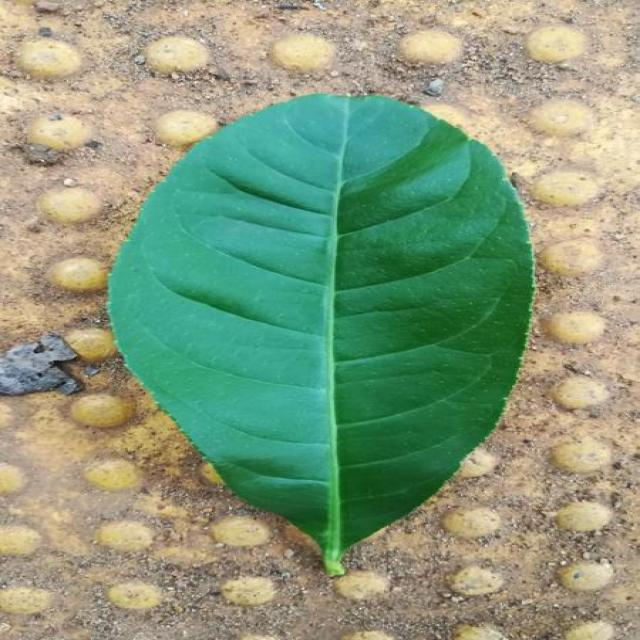badipala: (110, 95, 533, 574)
